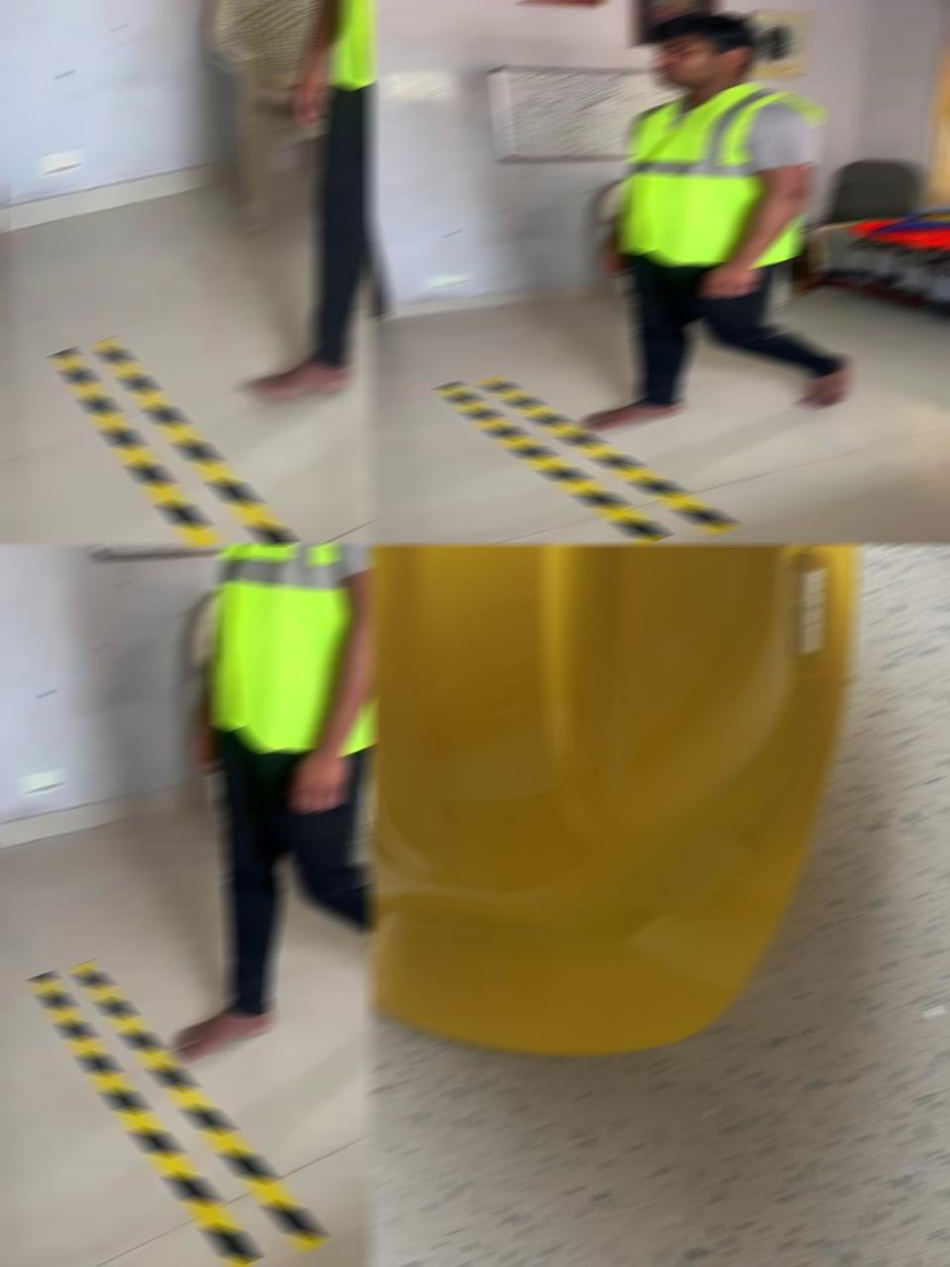BorderLine: (28, 961, 327, 1267), (48, 337, 360, 544), (434, 377, 738, 543)
Helmet: (368, 545, 859, 1055)
No_Helmet: (651, 12, 763, 90)
Person: (580, 12, 854, 429), (172, 545, 373, 1059), (238, 0, 373, 398)
Vest: (619, 83, 824, 265), (210, 545, 373, 754)
